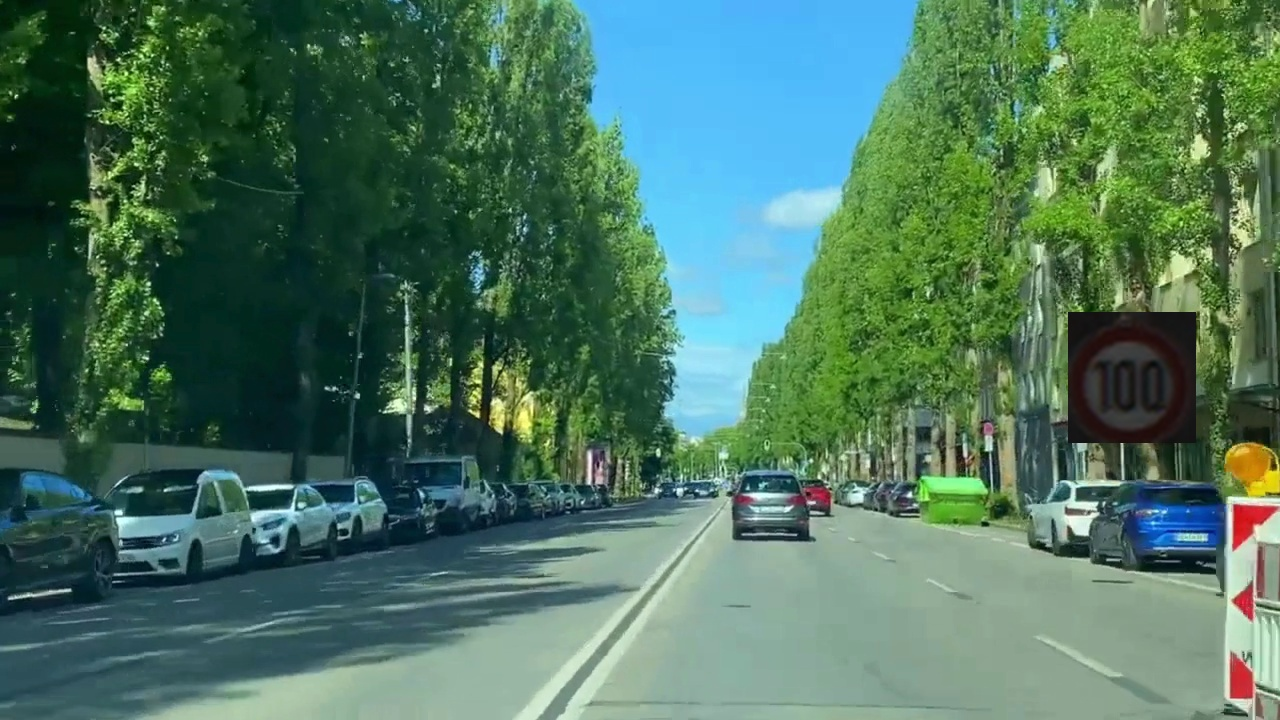Speed 100: (1068, 312, 1196, 443)
